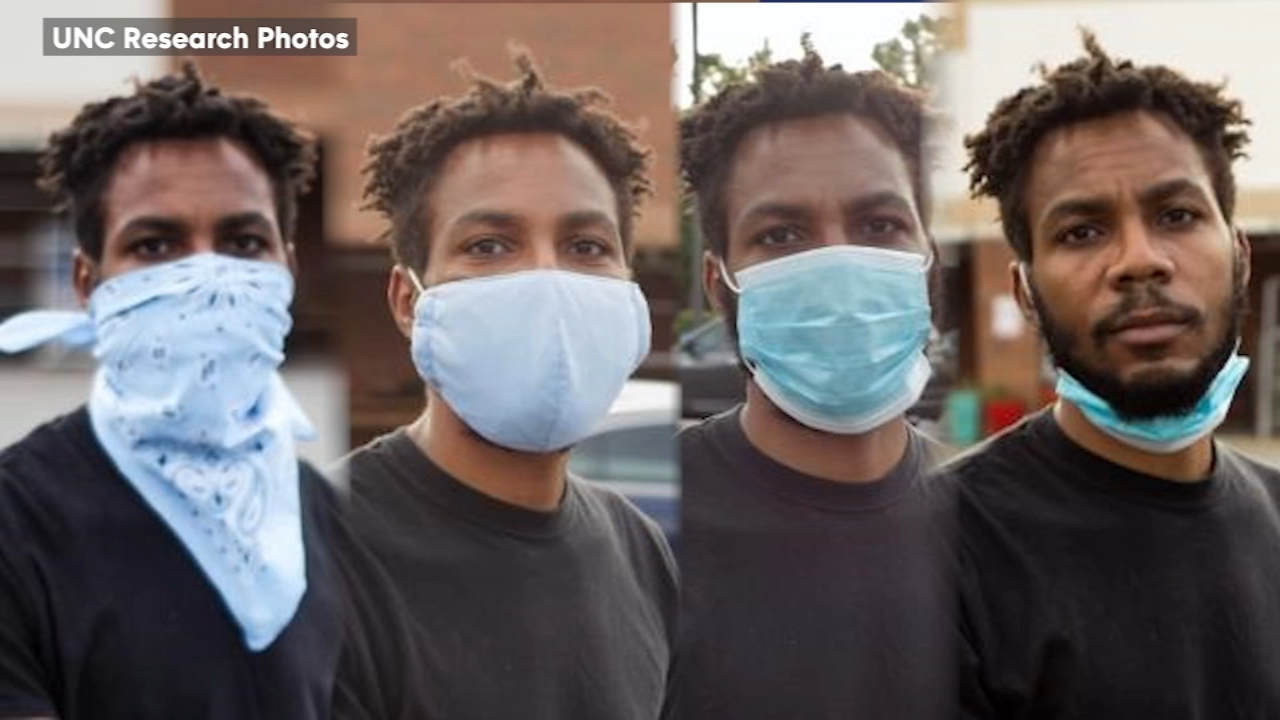with_incorrect_mask: (1022, 161, 1259, 441)
with_mask: (428, 183, 650, 447), (734, 158, 937, 443), (95, 174, 307, 423)
